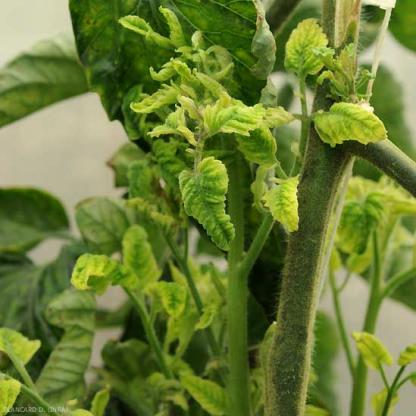tomato leaf yellow virus: (179, 145, 246, 254), (260, 157, 308, 255), (314, 94, 389, 146), (209, 102, 290, 148)
